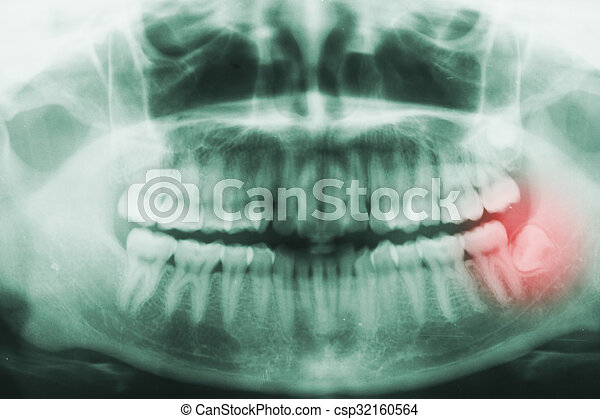canine: (371, 235, 400, 336)
incisor: (352, 242, 376, 335)
molar: (415, 223, 488, 324), (162, 228, 230, 326), (118, 222, 183, 320), (457, 221, 520, 306), (469, 140, 525, 220), (510, 212, 562, 284)
premolar: (388, 234, 431, 330), (219, 236, 253, 333), (245, 230, 275, 338)
